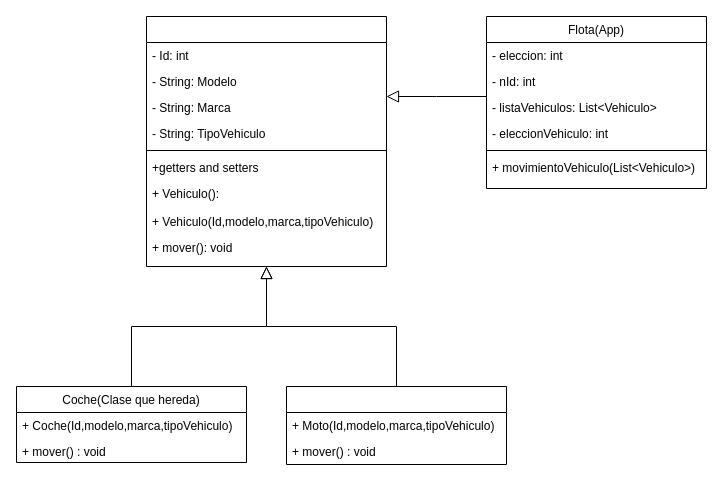
This 723x481 diagram has some shape labels left out. Here are the shapes that lost their labels. From the top down, the box of each, then its label:
(146, 16, 386, 266): Vehiculo(clase abstracta)
(286, 386, 506, 464): Moto(Clase que hereda)
